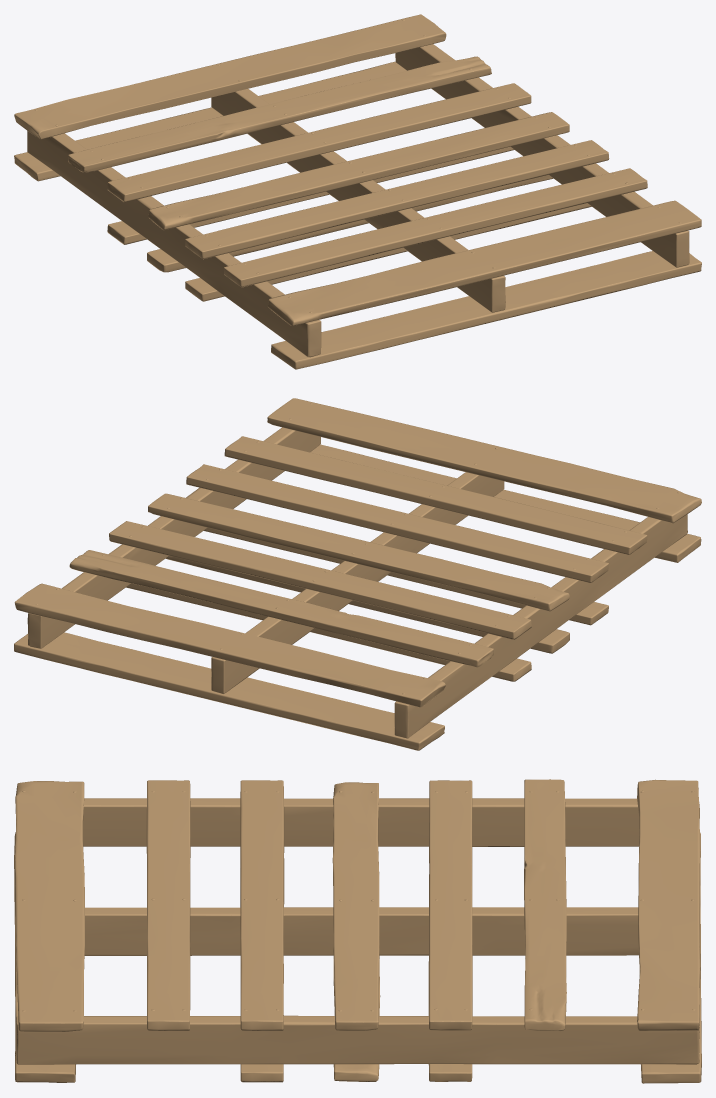
File: pallet_wood_wing_a01.glb
3 renders of one model, top to bottom at view 1: azimuth 30°, elevation 25°; view 2: azimuth 150°, elevation 25°; view 3: azimuth 270°, elevation 25°, orthographic. The views are drawn at different scales.
Size of the model in its own units: 1 by 0.1209 by 1.19.
